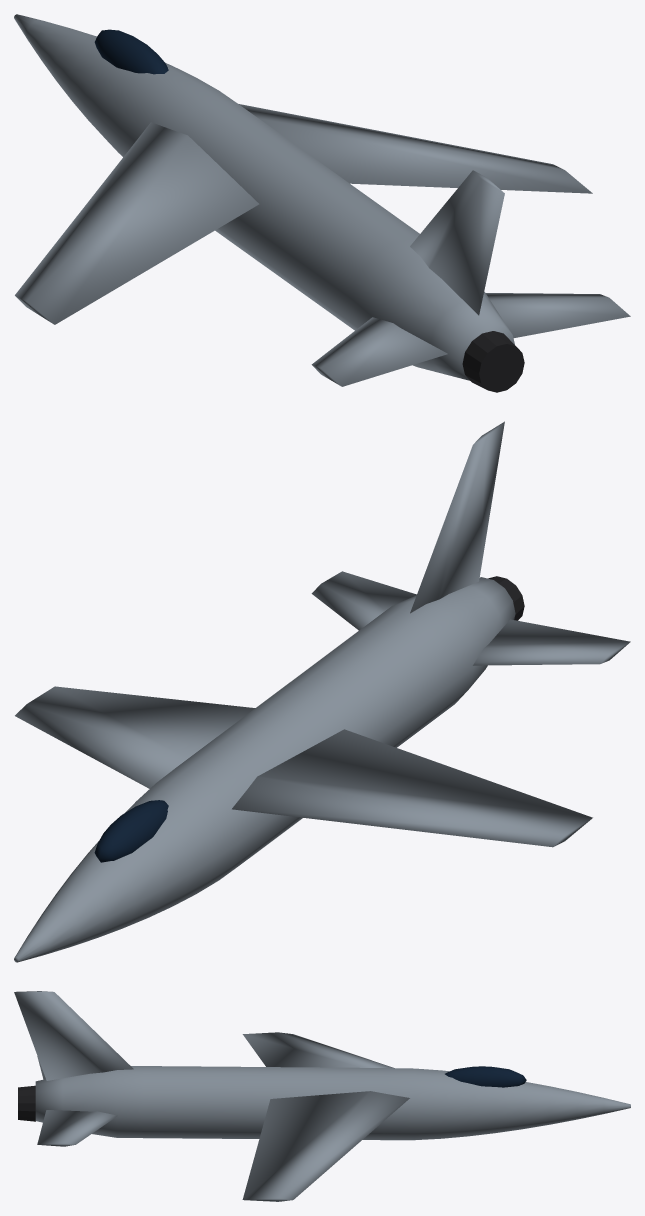
Rendered from harrier.obj.
3 renders of one model, top to bottom at view 1: azimuth 30°, elevation 25°; view 2: azimuth 150°, elevation 25°; view 3: azimuth 270°, elevation 25°, orthographic. The views are drawn at different scales.
Parts seen in each view (by area): view 1: Body, Detail, Canopy; view 2: Body, Canopy; view 3: Body, Canopy, Detail.
Part boxes in pixels (x1,y1,x2,y2): Body: [14, 14, 630, 386]; Detail: [462, 331, 524, 392]; Canopy: [94, 29, 168, 74]; Body: [14, 421, 630, 962]; Canopy: [94, 800, 168, 862]; Body: [14, 991, 630, 1201]; Canopy: [445, 1066, 526, 1087]; Detail: [18, 1085, 35, 1121].
Size of the model in its own units: 9.3 by 3.79 by 14.62.
